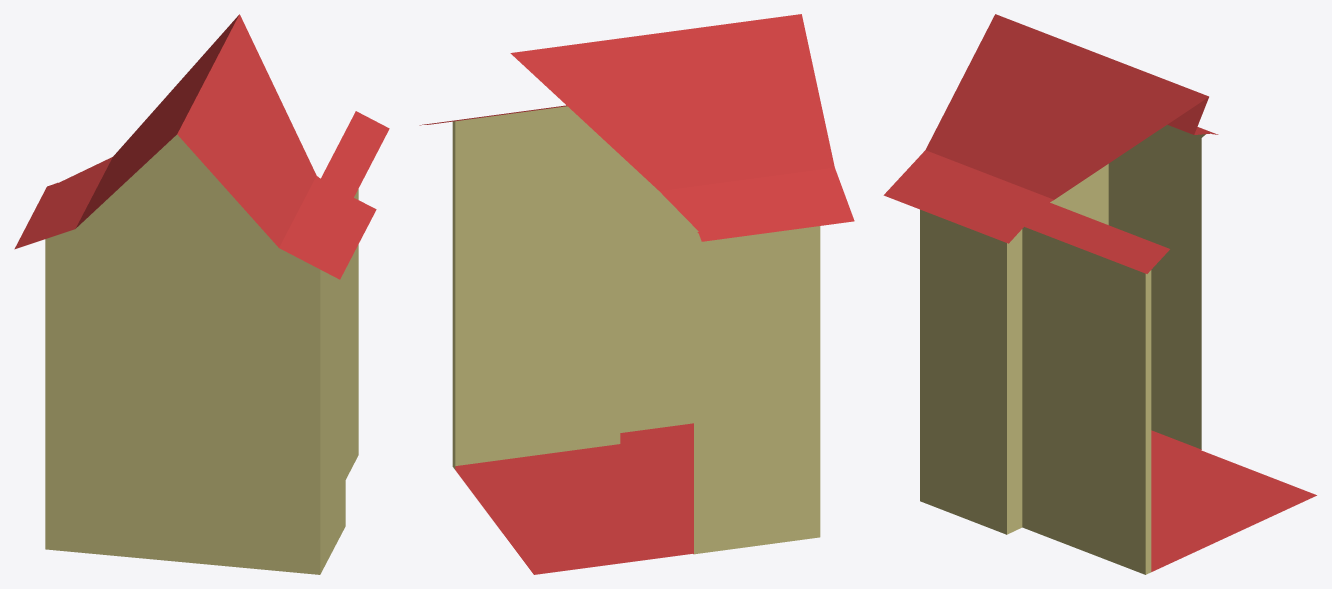
3 views of the same model, side by side, from view 1: azimuth 30°, elevation 25°; view 2: azimuth 150°, elevation 25°; view 3: azimuth 270°, elevation 25° (orthographic). The views are drawn at different scales.
Size of the model in its own units: 13.17 by 12.59 by 13.96.
